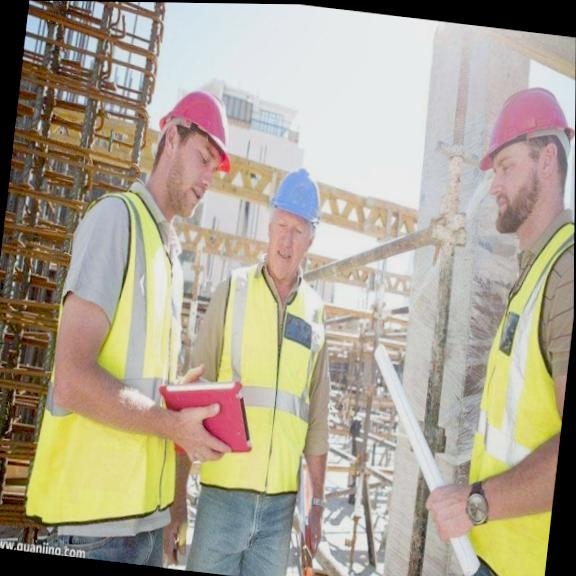no_safety_vest: (29, 65, 233, 570), (417, 65, 576, 576), (184, 144, 356, 576)
safety_vest: (39, 183, 218, 539), (435, 219, 574, 576), (194, 254, 334, 508)
